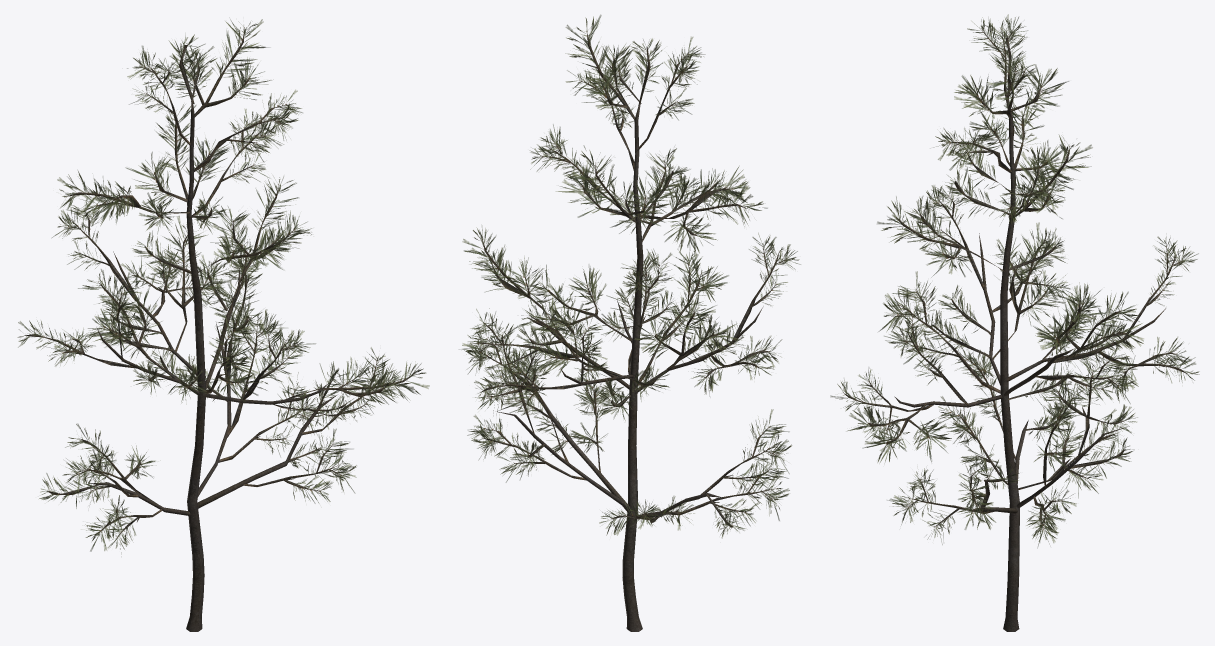
File: reference-public_models_vegetation_pine.glb
The picture shows the model from 3 angles, left to right: view 1: azimuth 30°, elevation 25°; view 2: azimuth 150°, elevation 25°; view 3: azimuth 270°, elevation 25°; orthographic projection.
Parts seen in each view (by area): view 1: Crown_pine.015; view 2: Crown_pine.015; view 3: Crown_pine.015.
Part boxes in pixels (x1,y1,x2,y2): Crown_pine.015: (17, 19, 429, 631); Crown_pine.015: (459, 14, 800, 631); Crown_pine.015: (830, 14, 1199, 631).
Bounding box in the file's own units: 3.09 × 5.08 × 2.85.
Materials: 2 (2 with a texture image).
